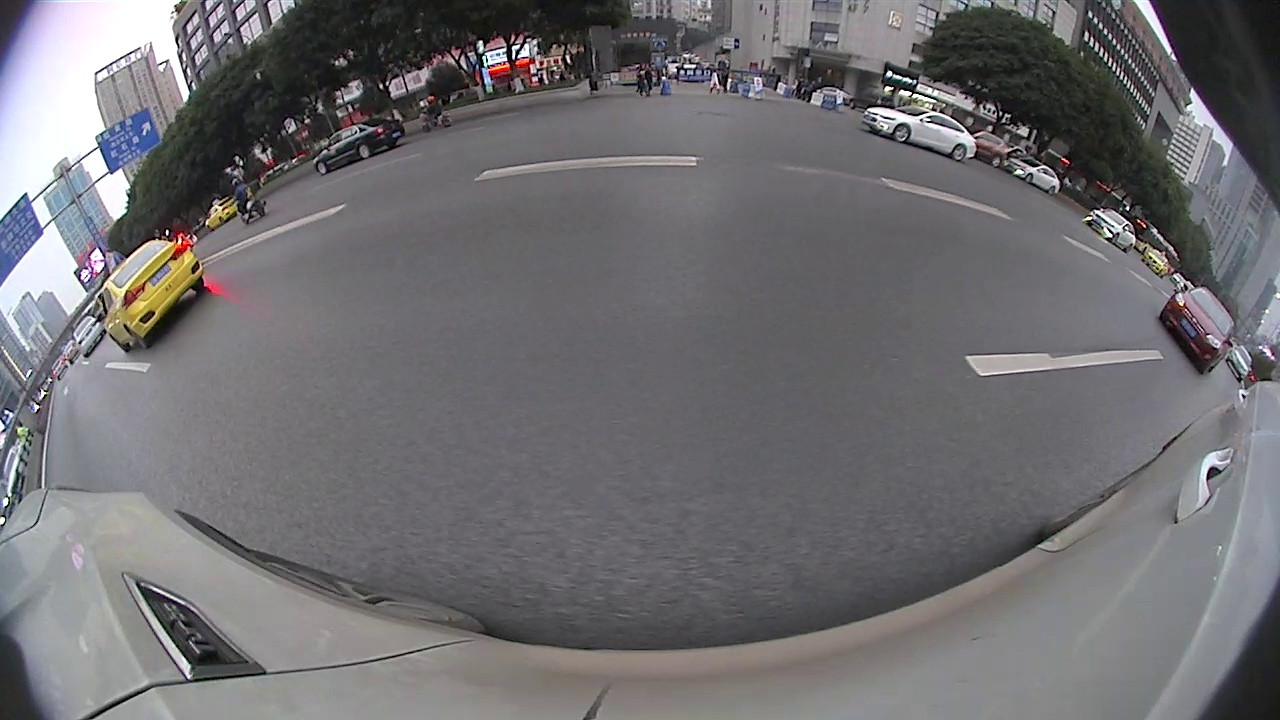car: (102, 237, 204, 354), (1157, 284, 1235, 376), (861, 103, 978, 164), (311, 119, 407, 174), (1083, 207, 1137, 252), (1007, 155, 1060, 198), (71, 314, 107, 359)
front: (895, 123, 909, 142), (317, 162, 326, 173)
rear: (127, 325, 147, 347), (952, 144, 966, 158), (359, 145, 369, 157)
rider: (231, 176, 267, 225)
